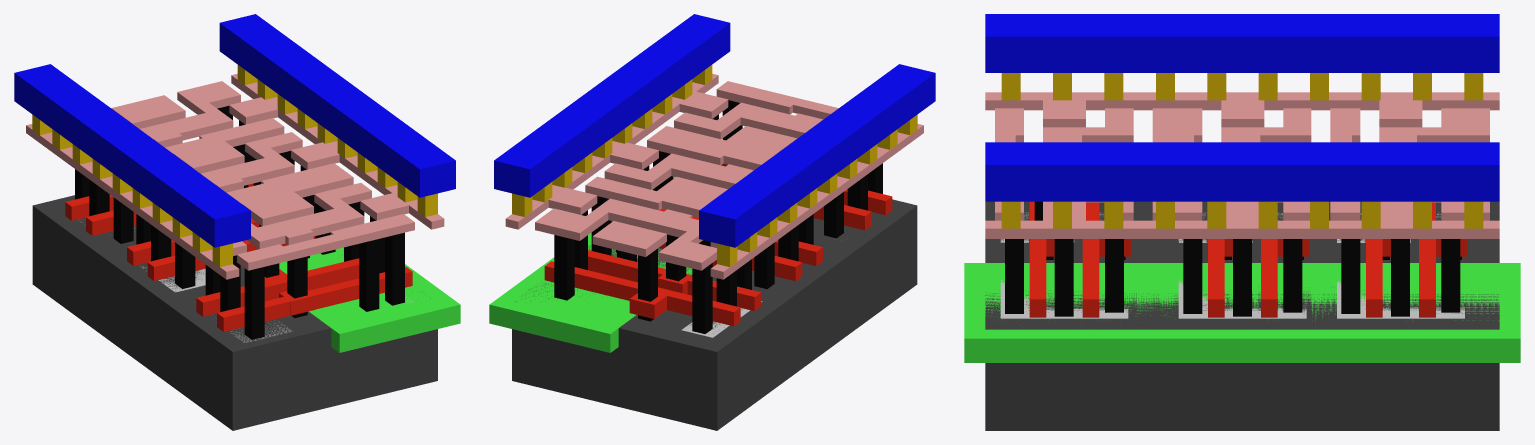
File: sky130_fd_sc_hd__dlymetal6s4s_1.obj
3 renders of one model, left to right at view 1: azimuth 30°, elevation 25°; view 2: azimuth 150°, elevation 25°; view 3: azimuth 270°, elevation 25°, orthographic. The views are drawn at different scales.
Parts seen in each view (by area): view 1: subs, li, metal1, licon, poly, nwell, mcon, diff; view 2: subs, li, metal1, licon, poly, nwell, mcon; view 3: metal1, subs, li, nwell, licon, mcon, poly, tap.
Boxes of the visible parts, <box> form: subs: <box>32,195,437,430</box>; li: <box>26,73,444,279</box>; metal1: <box>14,14,455,247</box>; licon: <box>75,106,404,339</box>; poly: <box>65,183,412,331</box>; nwell: <box>279,247,460,352</box>; mcon: <box>32,65,437,266</box>; diff: <box>134,228,291,342</box>; subs: <box>512,199,917,430</box>; li: <box>505,73,923,279</box>; metal1: <box>494,14,935,247</box>; licon: <box>554,100,882,333</box>; poly: <box>544,163,892,326</box>; nwell: <box>489,176,692,352</box>; mcon: <box>512,65,917,266</box>; metal1: <box>985,14,1499,201</box>; subs: <box>985,201,1499,430</box>; li: <box>985,92,1499,238</box>; nwell: <box>964,263,1520,362</box>; licon: <box>1005,201,1461,316</box>; mcon: <box>1001,73,1483,228</box>; poly: <box>1029,201,1467,317</box>; tap: <box>1000,279,1464,318</box>.
Bounding box in the file's own units: 3.2 × 2.74 × 4.98.
